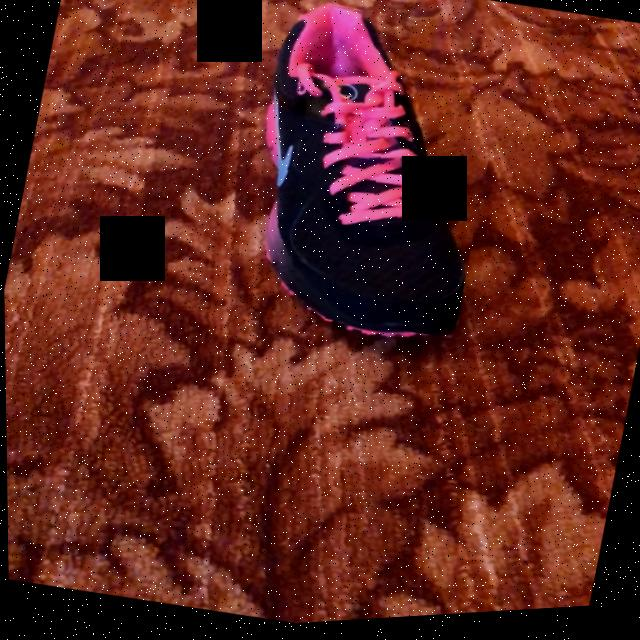shoe: (262, 9, 464, 339)
